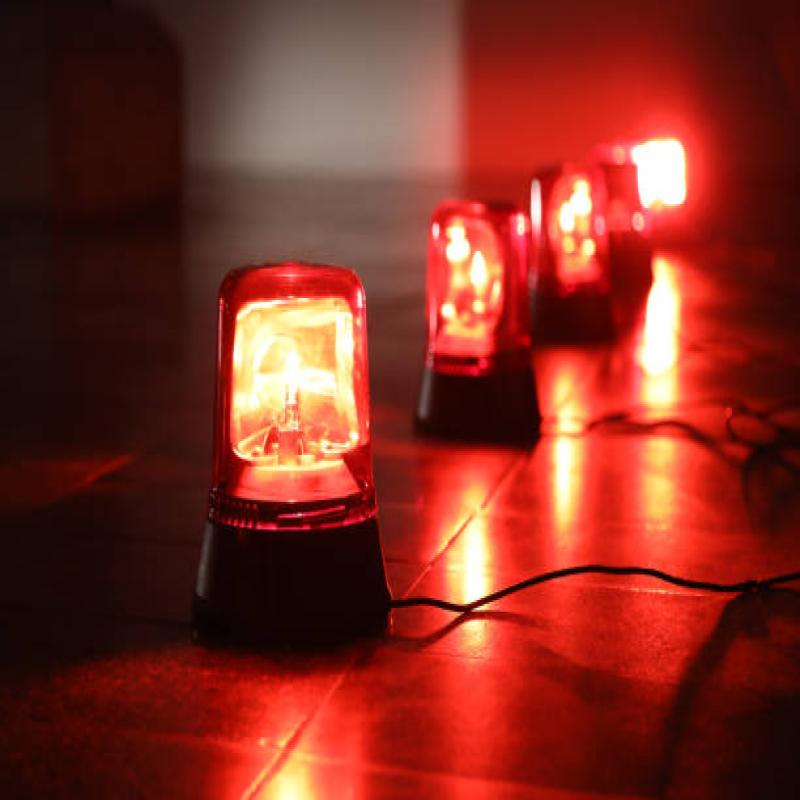AmbulanceSiren: (187, 224, 396, 553), (536, 99, 678, 337), (397, 200, 548, 410)
